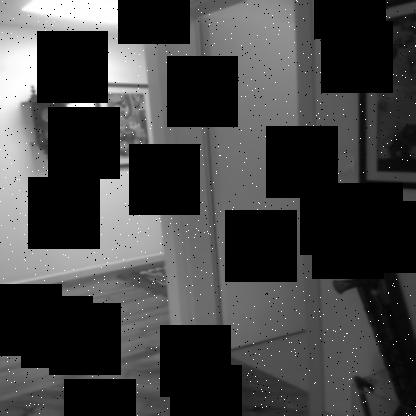Porte: (151, 0, 327, 415)
